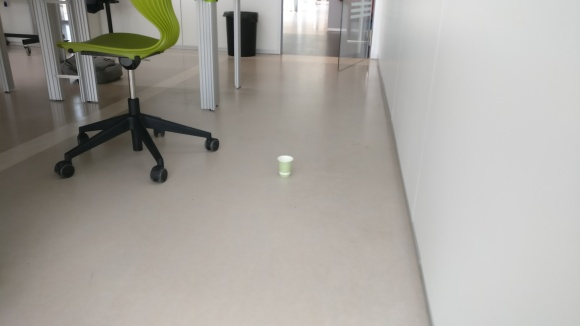cup: (276, 154, 294, 179)
